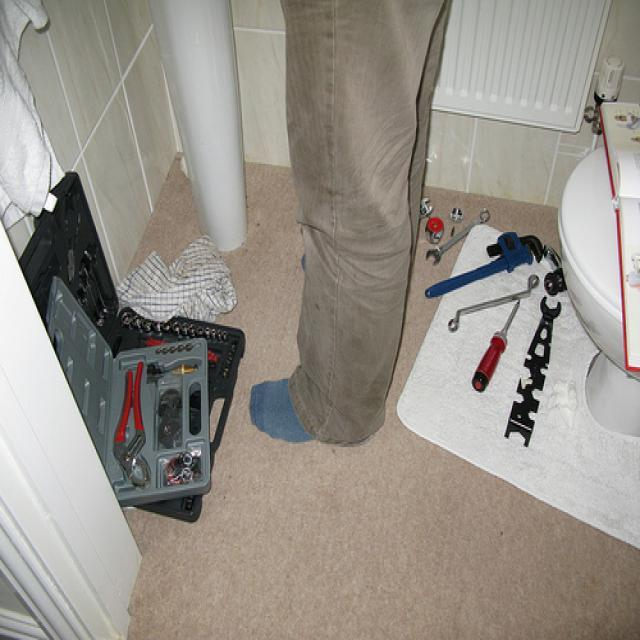pliers: (111, 360, 153, 490)
screwdriver: (470, 298, 526, 396)
wrench: (425, 228, 547, 300), (427, 207, 494, 266)
